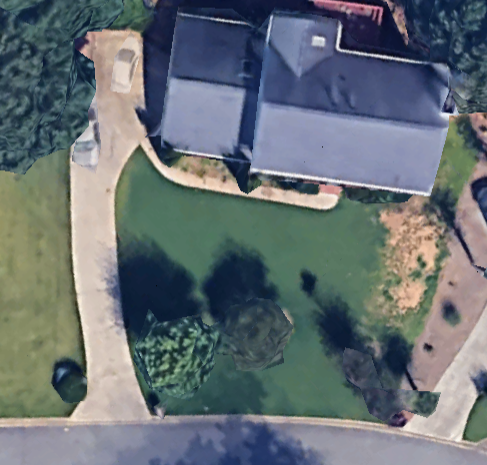driveway: (66, 29, 150, 420)
